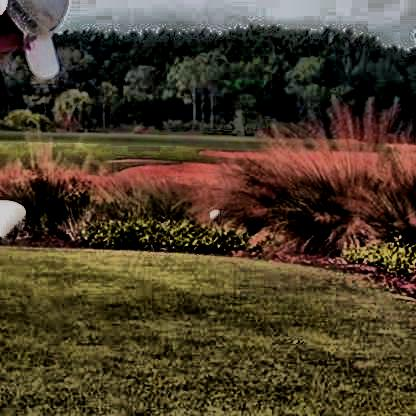golfball: (206, 207, 217, 220)
